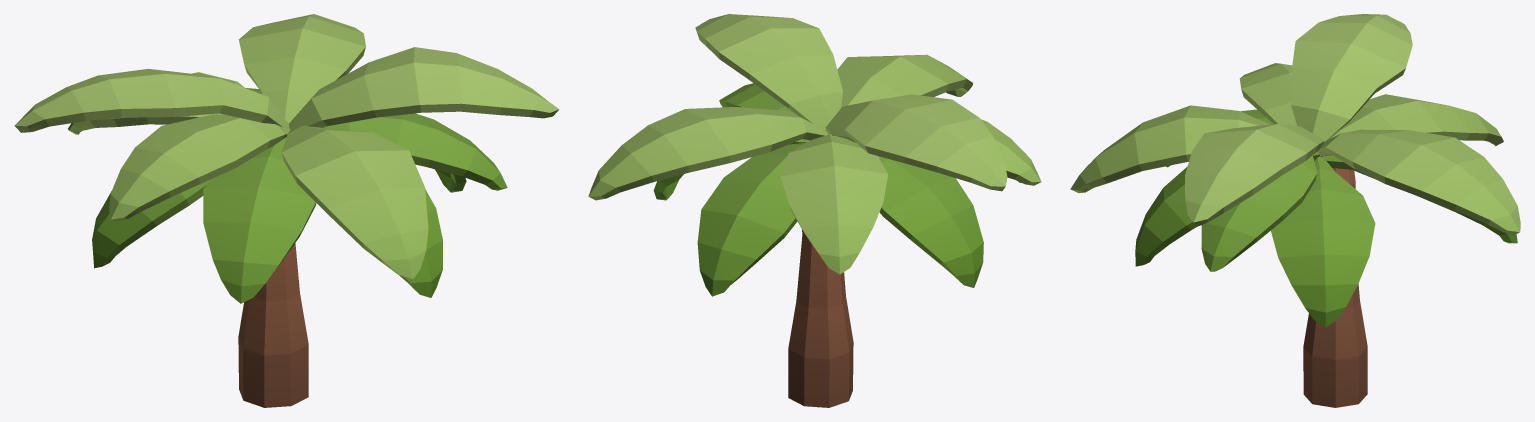
The model's file is palm tree small.fbx.
The picture shows the model from 3 angles, left to right: view 1: azimuth 30°, elevation 25°; view 2: azimuth 150°, elevation 25°; view 3: azimuth 270°, elevation 25°; orthographic projection. The views are drawn at different scales.
Visible parts, largest first — view 1: palm tree small; view 2: palm tree small; view 3: palm tree small.
Part boxes in pixels (box(x1,y1,x2,y2)): palm tree small: box(14, 14, 559, 407); palm tree small: box(588, 14, 1041, 407); palm tree small: box(1070, 14, 1520, 407).
Size of the model in its own units: 441 by 327 by 433.
